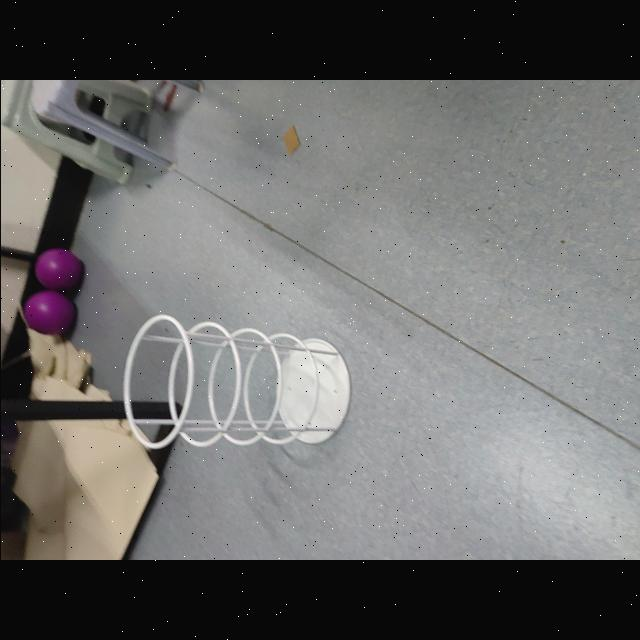S: (119, 308, 354, 456)
